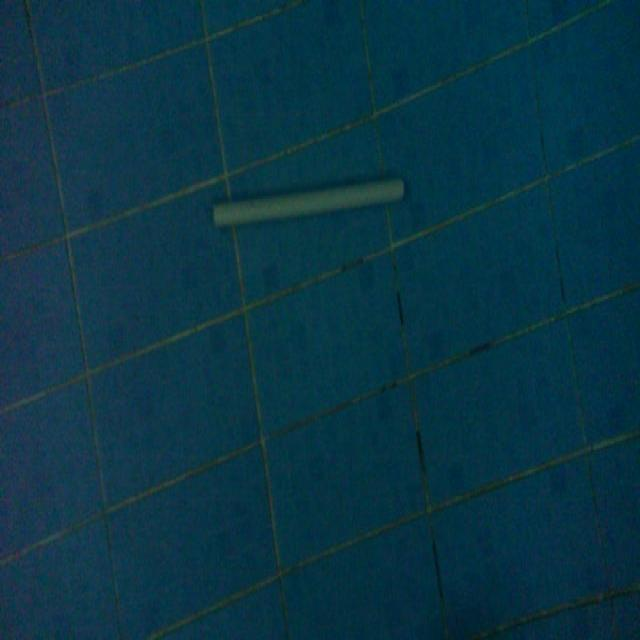Cube: (210, 171, 406, 231)
